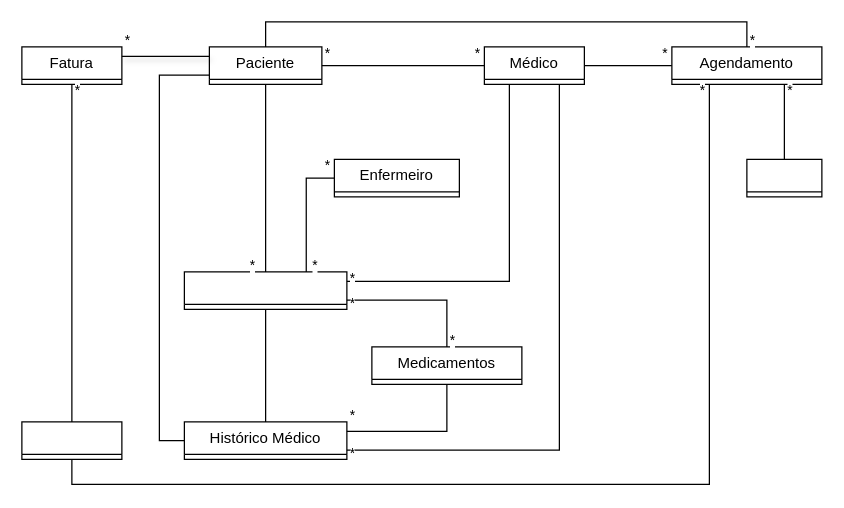
Image size: 844x508. Some labels were removed from this diagram. Here are the shapes that lost their labels. From the top down, the centre of each, then its label:
At (x=784, y=177): "Sala".
At (x=265, y=290): "Consulta Médica".
At (x=71, y=440): "Serviço".
